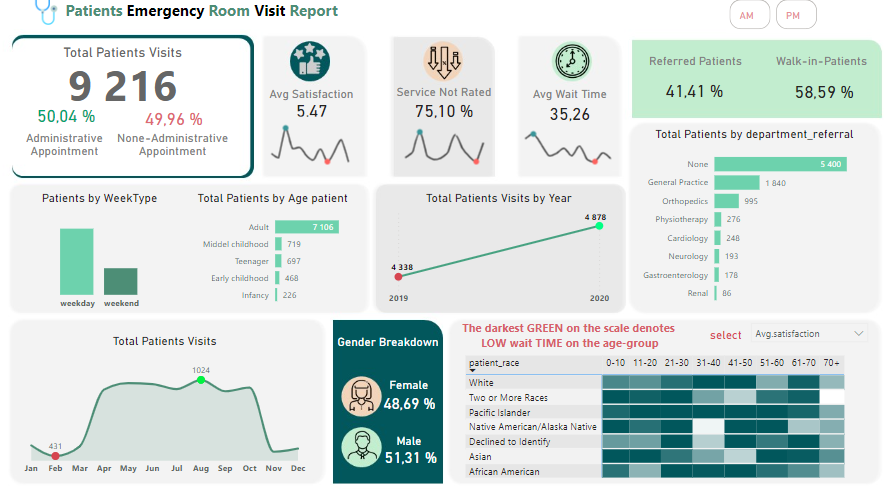

This screenshot's page, from the dashboard's own definition file:
{"tool":"powerbi","page":{"name":"Page 1","canvas":[1280,720],"ordinal":0},"visuals":[{"type":"card","title":"Total Patients Visits","fields":{"Values":["calculation.Total Patients"]},"box":[74.3,82.9,225.7,87.1],"z":0},{"type":"card","fields":{"Values":["calculation.% Administrative schedule"]},"box":[57.1,164.3,98.6,37.1],"z":1000},{"type":"card","fields":{"Values":["calculation.nn_Administrative schedule"]},"box":[210,168.6,98.6,38.6],"z":2000},{"type":"pivotTable","fields":{"Values":["calculation.Average satisfaction score"],"Rows":["patient data.patient_race"],"Columns":["patient data.Age Buckets"]},"box":[667.1,518.6,597.1,201.4],"z":3000},{"type":"slicer","fields":{"Values":["Parameter.Parameter"]},"box":[1067.1,467.1,185.7,51.4],"z":4000},{"type":"clusteredBarChart","fields":{"Category":["patient data.Age patient"],"Y":["calculation.Total Patients"]},"box":[287.1,290,241.4,171.4],"z":5000},{"type":"areaChart","title":"Total Patients Visits","fields":{"Category":["Date.Month"],"Y":["calculation.Total Patients","calculation.Value Max Point(Month)"]},"box":[38.6,492.9,415.7,208.6],"z":6000},{"type":"advancedSlicerVisual","fields":{"Values":["patient data.Moment"]},"box":[1041.4,14.3,200,52.9],"z":7000},{"type":"lineChart","title":"Total Patients Visits by Year","fields":{"Y":["calculation.Total Patients","calculation.Value Max Point(Year)"],"Category":["Date.Year"]},"box":[558.6,290,322.9,170],"z":8000},{"type":"clusteredBarChart","fields":{"Y":["calculation.Total Patients"],"Category":["patient data.department_referral"]},"box":[911.4,200,341.4,261.4],"z":9000},{"type":"card","fields":{"Values":["calculation.%Referred patients"]},"box":[932.9,122.9,128.6,48.6],"z":10000},{"type":"card","fields":{"Values":["calculation.HitMap caption"]},"box":[637.1,440,365.7,110],"z":11000},{"type":"textbox","box":[38.6,200,131.4,50],"z":12000},{"type":"textbox","box":[160,200,194.3,60],"z":13000},{"type":"card","title":"Avg Satisfaction","fields":{"Values":["calculation.Average satisfaction score"]},"box":[380,142.9,148.6,47.1],"z":14000},{"type":"card","title":"Service Not Rated","fields":{"Values":["calculation.% No Rating"]},"box":[564.3,140,155.7,52.9],"z":15000},{"type":"card","title":"Avg Wait Time","fields":{"Values":["calculation.Average wait Time"]},"box":[760,142.9,121.4,57.1],"z":16000},{"type":"card","fields":{"Values":["calculation.%UnReferred patients"]},"box":[1118.6,127.1,124.3,44.3],"z":17000},{"type":"textbox","box":[1091.4,90,171.4,38.6],"z":18000},{"type":"textbox","box":[921.4,90,154.3,37.1],"z":19000},{"type":"clusteredColumnChart","title":"Patients by WeekType","fields":{"Y":["calculation.Total Patients"],"Category":["Date.WeekType"]},"box":[37.1,290,234.3,177.1],"z":20000},{"type":"card","fields":{"Values":["calculation.% Female patients"]},"box":[541.4,567.1,102.9,50],"z":21000},{"type":"card","fields":{"Values":["calculation.% Male patients"]},"box":[542.8,643.5,103.5,49.6],"z":22000},{"type":"PBI_CV_25997FEB_F466_44FA_B562_AC4063283C4C","fields":{"measure":["calculation.Average satisfaction score"],"axis":["Date.Month"]},"box":[380,184.3,148.6,75.7],"z":23000},{"type":"PBI_CV_25997FEB_F466_44FA_B562_AC4063283C4C","fields":{"measure":["calculation.% No Rating"],"axis":["Date.Month"]},"box":[570,190,150,70],"z":24000},{"type":"PBI_CV_25997FEB_F466_44FA_B562_AC4063283C4C","fields":{"measure":["calculation.Average wait Time"],"axis":["Date.Month"]},"box":[740,192.9,160,67.1],"z":25000},{"type":"textbox","box":[480.5,489,164.4,39.7],"z":26000},{"type":"textbox","box":[544.3,550,95.7,30],"z":27000},{"type":"textbox","box":[544.3,629.3,96.4,39.7],"z":28000},{"type":"textbox","box":[998.6,478.6,84.3,30],"z":29000},{"type":"image","box":[47.1,7.1,62.9,52.9],"z":30000},{"type":"textbox","box":[100,14.3,540,45.7],"z":31000}]}

Visuals, with their boxes in screenshot pixels (x1, y1, x2, y2), scaled from the page's 1280x720 canvas onto the 895x490 screenshot:
"Total Patients Visits" card: left=52, top=56, right=210, bottom=116
card - calculation.% Administrative schedule: left=40, top=112, right=109, bottom=137
card - calculation.nn_Administrative schedule: left=147, top=115, right=216, bottom=141
pivotTable - calculation.Average satisfaction score x patient data.patient_race: left=466, top=353, right=884, bottom=489
slicer - Parameter.Parameter: left=746, top=318, right=876, bottom=353
clusteredBarChart - patient data.Age patient x calculation.Total Patients: left=201, top=197, right=370, bottom=314
"Total Patients Visits" areaChart: left=27, top=335, right=318, bottom=477
advancedSlicerVisual - patient data.Moment: left=728, top=10, right=868, bottom=46
"Total Patients Visits by Year" lineChart: left=391, top=197, right=616, bottom=313
clusteredBarChart - calculation.Total Patients x patient data.department_referral: left=637, top=136, right=876, bottom=314
card - calculation.%Referred patients: left=652, top=84, right=742, bottom=117
card - calculation.HitMap caption: left=445, top=299, right=701, bottom=374
textbox: left=27, top=136, right=119, bottom=170
textbox: left=112, top=136, right=248, bottom=177
"Avg Satisfaction" card: left=266, top=97, right=370, bottom=129
"Service Not Rated" card: left=395, top=95, right=503, bottom=131
"Avg Wait Time" card: left=531, top=97, right=616, bottom=136
card - calculation.%UnReferred patients: left=782, top=86, right=869, bottom=117
textbox: left=763, top=61, right=883, bottom=88
textbox: left=644, top=61, right=752, bottom=86
"Patients by WeekType" clusteredColumnChart: left=26, top=197, right=190, bottom=318
card - calculation.% Female patients: left=379, top=386, right=451, bottom=420
card - calculation.% Male patients: left=380, top=438, right=452, bottom=472
PBI_CV_25997FEB_F466_44FA_B562_AC4063283C4C - calculation.Average satisfaction score x Date.Month: left=266, top=125, right=370, bottom=177
PBI_CV_25997FEB_F466_44FA_B562_AC4063283C4C - calculation.% No Rating x Date.Month: left=399, top=129, right=503, bottom=177
PBI_CV_25997FEB_F466_44FA_B562_AC4063283C4C - calculation.Average wait Time x Date.Month: left=517, top=131, right=629, bottom=177
textbox: left=336, top=333, right=451, bottom=360
textbox: left=381, top=374, right=448, bottom=395
textbox: left=381, top=428, right=448, bottom=455
textbox: left=698, top=326, right=757, bottom=346
image: left=33, top=5, right=77, bottom=41
textbox: left=70, top=10, right=448, bottom=41
